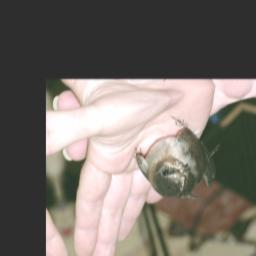Swallow: (127, 101, 232, 216)
